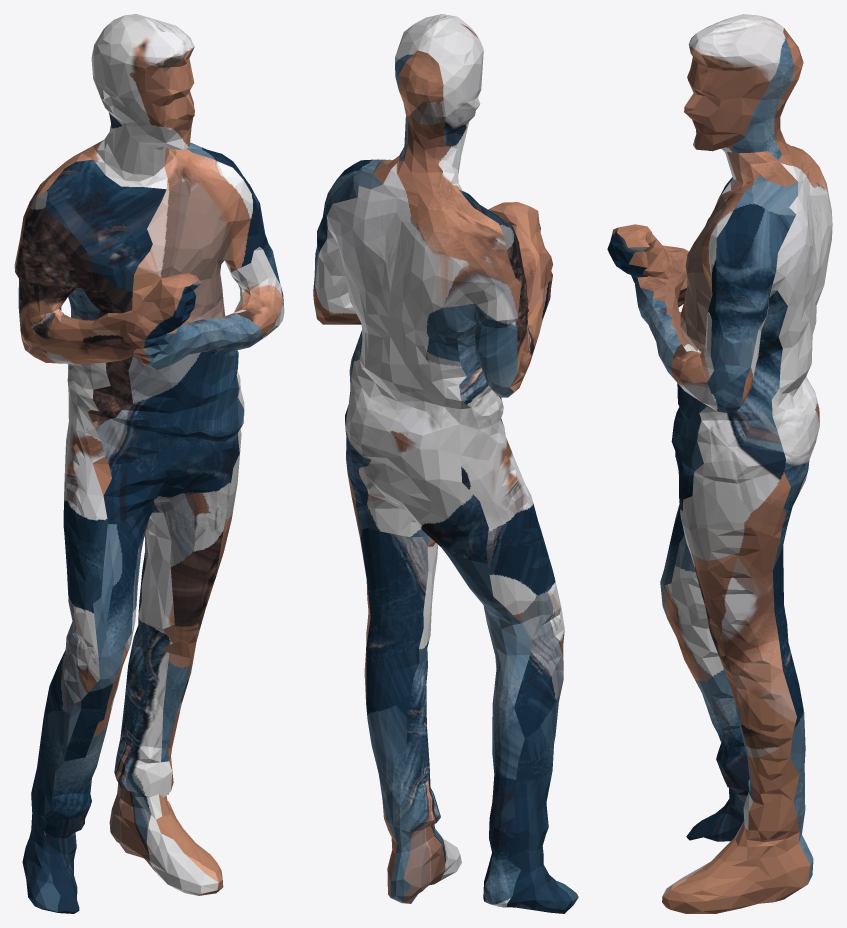
The model's file is man_3.glb.
The picture shows the model from 3 angles, left to right: view 1: azimuth 30°, elevation 25°; view 2: azimuth 150°, elevation 25°; view 3: azimuth 270°, elevation 25°; orthographic projection.
Visible parts, largest first — view 1: man_3; view 2: man_3; view 3: man_3.
Boxes of the visible parts, <box> form: man_3: <box>14,14,284,913</box>; man_3: <box>313,14,578,913</box>; man_3: <box>607,14,832,913</box>.
Bounding box in the file's own units: 0.5395 × 1.78 × 0.4155.
Materials: 1 (1 with a texture image).
